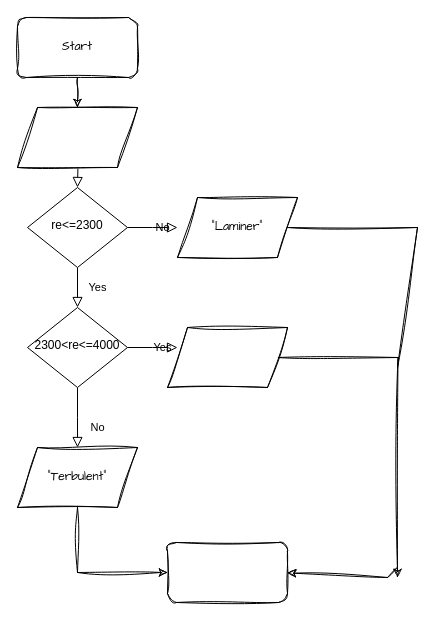
The diagram is 436 pixels wide and 620 high, and some of its shapes have lost their labels. The centre of each missing label's shape, as x and y in pixels:
""Transition": the point at 227,357
End: the point at 227,572
Enter Re number: the point at 77,137
